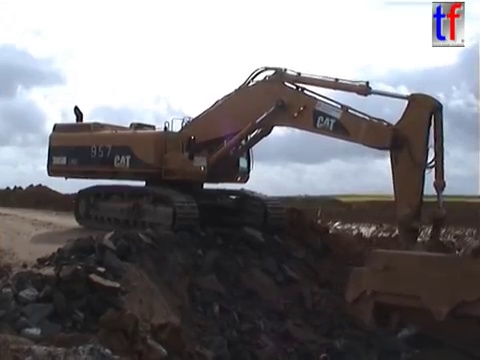excavator: (44, 63, 450, 297)
truck: (339, 242, 480, 360)
